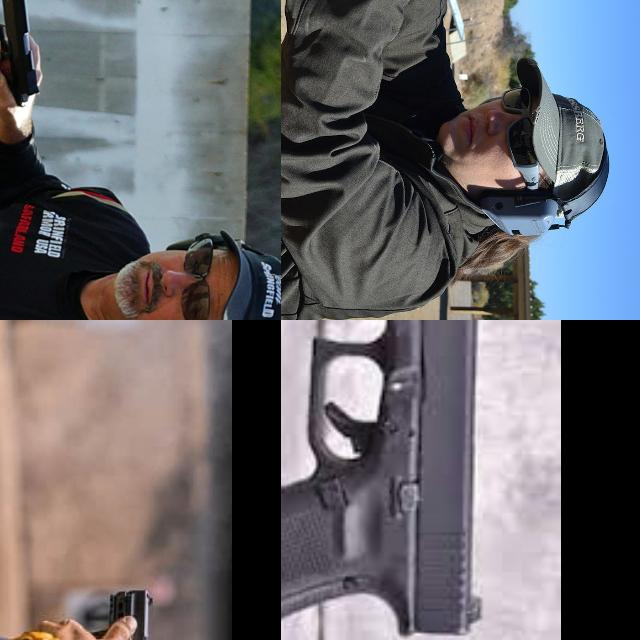handgun: (281, 320, 496, 640), (442, 0, 520, 84), (0, 0, 43, 110), (89, 587, 156, 640)
